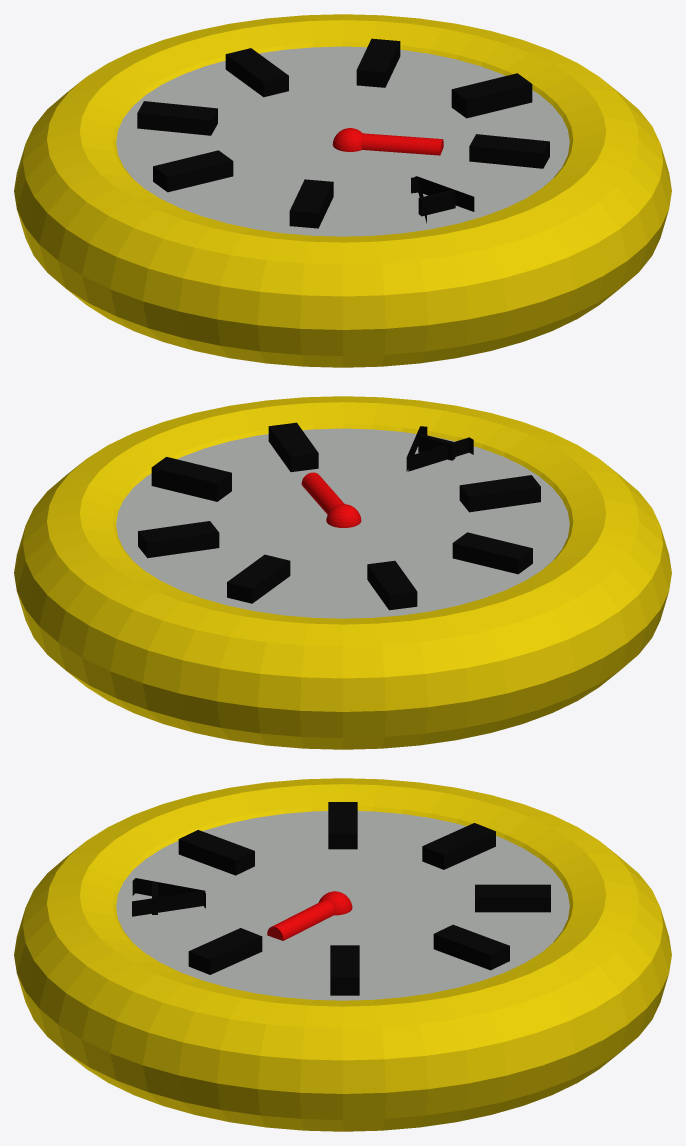
File: AMMETER_FINAL_01.fbx
The picture shows the model from 3 angles, top to bottom: view 1: azimuth 30°, elevation 25°; view 2: azimuth 150°, elevation 25°; view 3: azimuth 270°, elevation 25°; orthographic projection.
Visible parts, largest first — view 1: 环体, 柱体, 立方体.003, 立方体.006, 立方体.007, 立方体, 柱体.001, 立方体.005, 立方体.001, 立方体.002, 立方体.008; view 2: 环体, 柱体, 立方体.003, 立方体.001, 立方体.002, 立方体, 立方体.005, 立方体.006, 立方体.007, 立方体.008, 柱体.001; view 3: 环体, 柱体, 立方体.005, 立方体.002, 立方体.001, 立方体.007, 立方体.006, 立方体.008, 柱体.001, 立方体.003, 立方体.
Part boxes in pixels (<box>): 环体: <box>14,14,671,367</box>; 柱体: <box>116,46,569,236</box>; 立方体.003: <box>451,73,532,118</box>; 立方体.006: <box>137,101,217,135</box>; 立方体.007: <box>469,134,549,168</box>; 立方体: <box>153,150,233,192</box>; 柱体.001: <box>332,128,443,155</box>; 立方体.005: <box>225,48,288,97</box>; 立方体.001: <box>289,179,333,228</box>; 立方体.002: <box>356,38,400,87</box>; 立方体.008: <box>411,176,474,223</box>; 环体: <box>14,396,671,749</box>; 柱体: <box>116,428,569,618</box>; 立方体.003: <box>151,457,231,501</box>; 立方体.001: <box>459,475,540,512</box>; 立方体.002: <box>138,521,219,558</box>; 立方体: <box>452,532,532,574</box>; 立方体.005: <box>227,554,290,603</box>; 立方体.006: <box>367,560,417,610</box>; 立方体.007: <box>268,422,318,471</box>; 立方体.008: <box>406,426,473,471</box>; 柱体.001: <box>301,472,361,527</box>; 环体: <box>14,778,671,1131</box>; 柱体: <box>116,811,569,1000</box>; 立方体.005: <box>475,884,550,912</box>; 立方体.002: <box>433,924,509,970</box>; 立方体.001: <box>178,830,254,875</box>; 立方体.007: <box>188,928,262,974</box>; 立方体.006: <box>422,823,495,869</box>; 立方体.008: <box>132,878,205,916</box>; 柱体.001: <box>267,891,352,940</box>; 立方体.003: <box>330,945,359,995</box>; 立方体: <box>328,802,357,849</box>.
Size of the model in its own units: 250 by 53.09 by 250.
